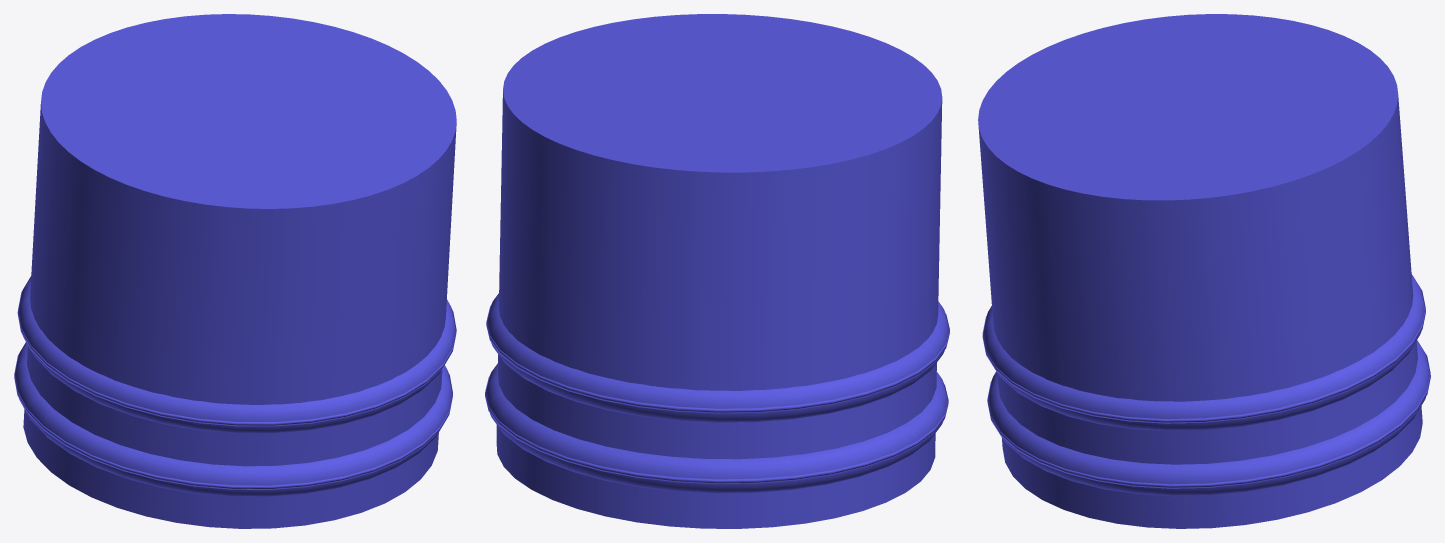
The model's file is bombilla192.obj.
The picture shows the model from 3 angles, left to right: view 1: azimuth 30°, elevation 25°; view 2: azimuth 150°, elevation 25°; view 3: azimuth 270°, elevation 25°; orthographic projection. The views are drawn at different scales.
Parts seen in each view (by area): view 1: Cylinder001, Cylinder004, Cylinder002, Cylinder003, Cylinder006; view 2: Cylinder001, Cylinder004, Cylinder003, Cylinder006, Cylinder002; view 3: Cylinder001, Cylinder004, Cylinder003, Cylinder002, Cylinder006.
Boxes of the visible parts, x1,y1,x2,y2 form: Cylinder001: [30, 14, 456, 404]; Cylinder004: [14, 342, 452, 496]; Cylinder002: [17, 276, 456, 433]; Cylinder003: [27, 346, 442, 466]; Cylinder006: [23, 409, 438, 528]; Cylinder001: [499, 14, 942, 390]; Cylinder004: [485, 363, 948, 493]; Cylinder003: [498, 354, 936, 459]; Cylinder006: [496, 425, 935, 528]; Cylinder002: [486, 293, 949, 422]; Cylinder001: [978, 14, 1413, 401]; Cylinder004: [987, 340, 1430, 496]; Cylinder003: [997, 341, 1417, 464]; Cylinder002: [982, 274, 1425, 430]; Cylinder006: [1002, 406, 1422, 528].
Size of the model in its own units: 72.45 by 64.16 by 73.61.
